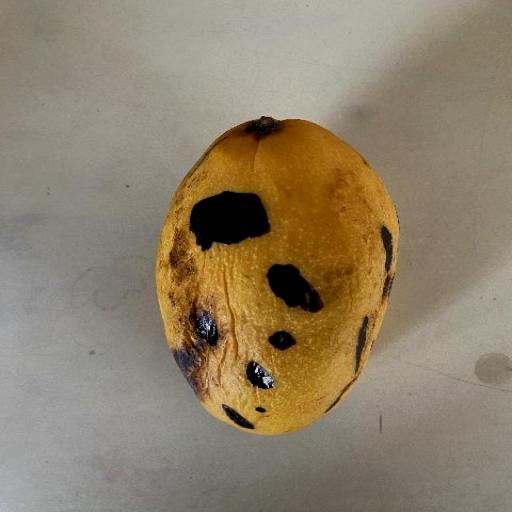mango-overripe: (151, 96, 405, 443)
